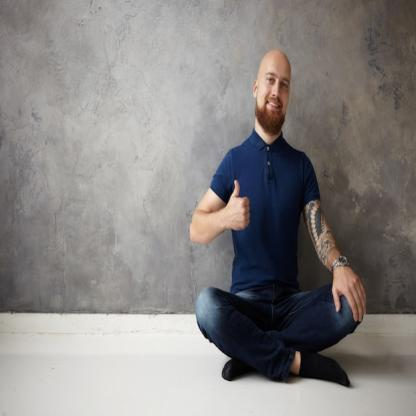thumb_up: (222, 177, 252, 239)
